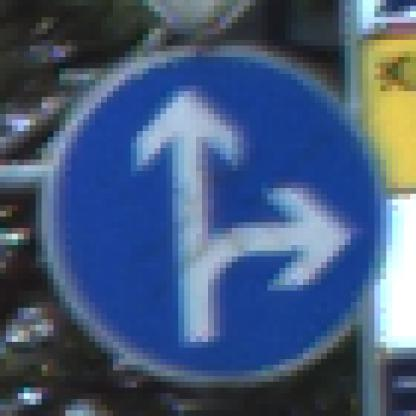Straight or Right: (37, 41, 381, 383)
